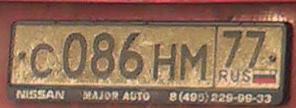character: (119, 31, 146, 82), (62, 32, 88, 83), (179, 43, 209, 85), (90, 31, 115, 81), (29, 41, 56, 81), (151, 42, 178, 81), (243, 28, 268, 69), (221, 27, 244, 69)
